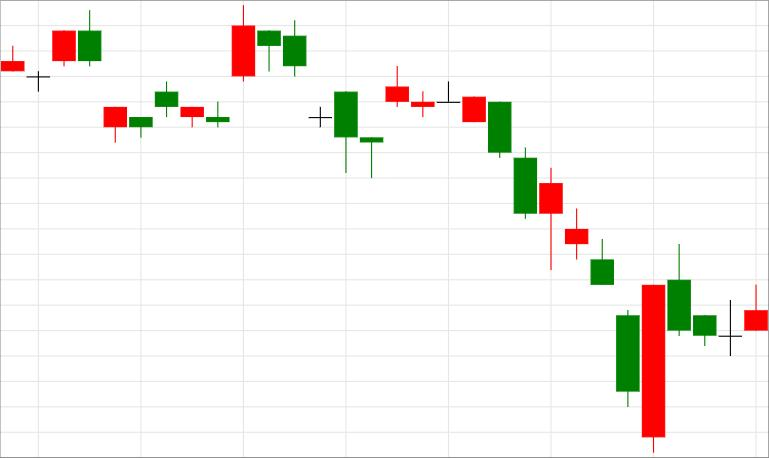bullish_engulfing_rise: (488, 101, 665, 453)
